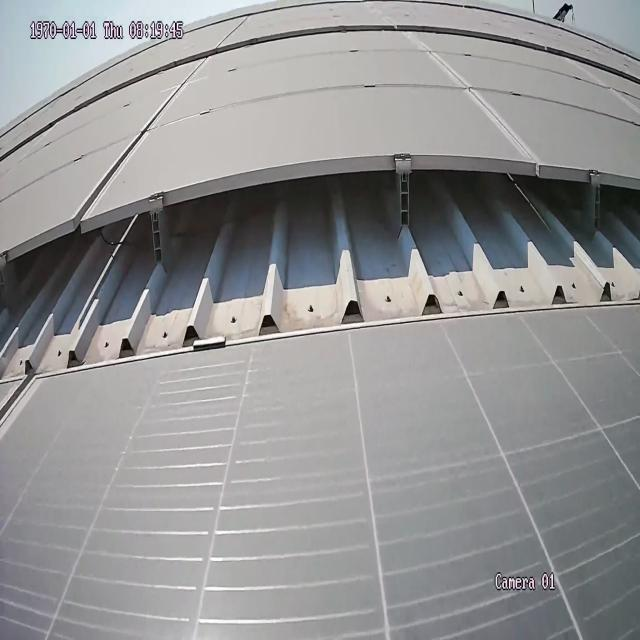interior panel: (74, 65, 205, 204), (402, 32, 543, 156), (0, 386, 31, 440)
outher panel: (0, 156, 639, 388)
